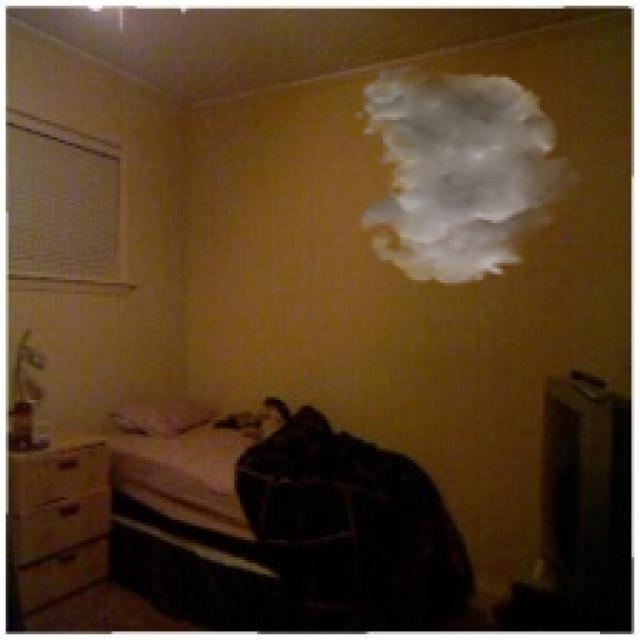smoke: (351, 63, 586, 286)
